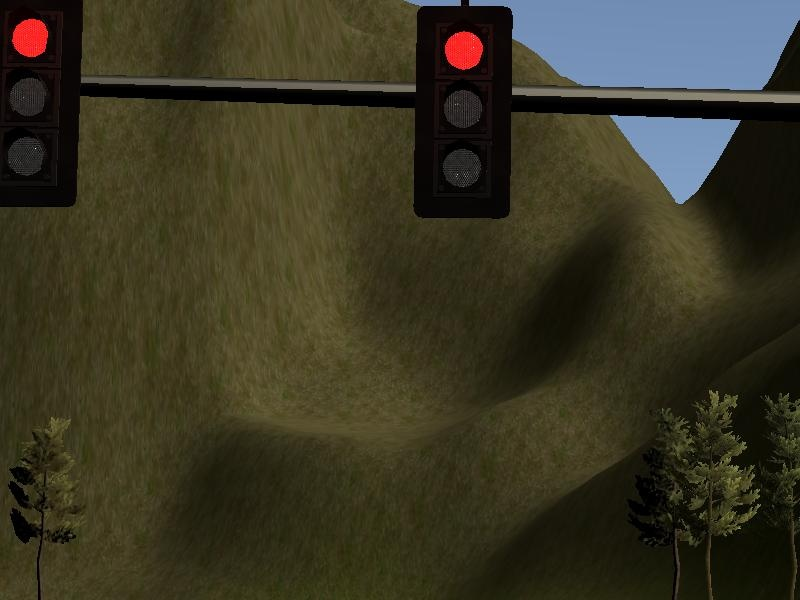red: (415, 1, 518, 219), (1, 1, 90, 213)
